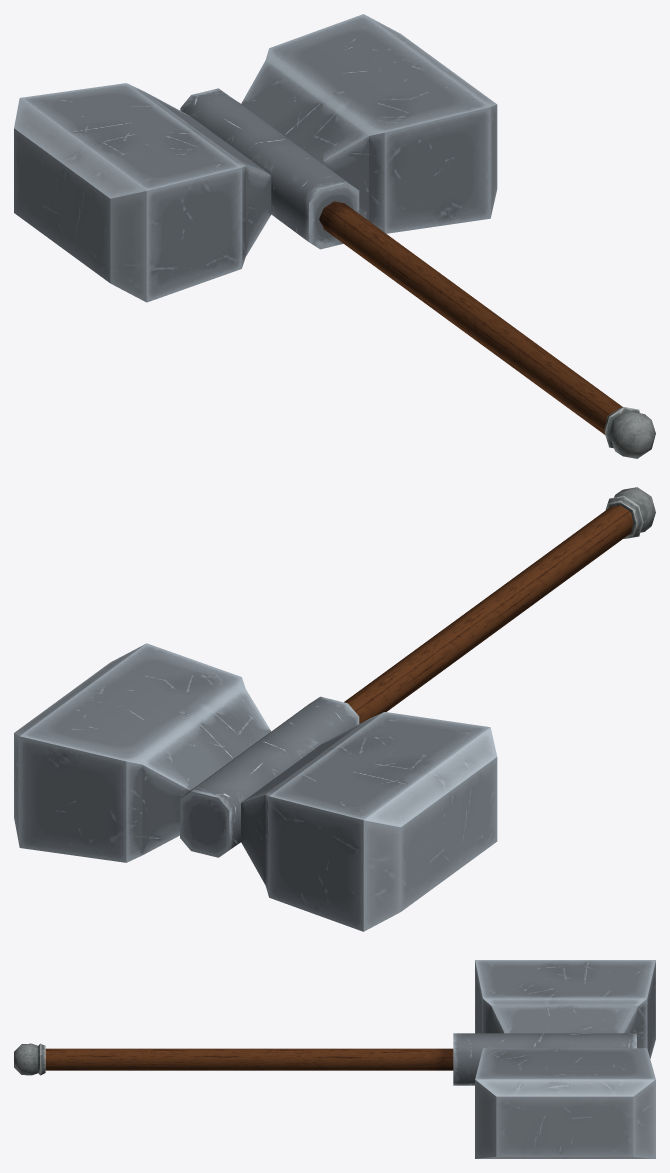
The model's file is hammer_two_handed.glb.
The picture shows the model from 3 angles, top to bottom: view 1: azimuth 30°, elevation 25°; view 2: azimuth 150°, elevation 25°; view 3: azimuth 270°, elevation 25°; orthographic projection. The views are drawn at different scales.
Visible parts, largest first — view 1: hammer_two_handed_Material.002_0; view 2: hammer_two_handed_Material.002_0; view 3: hammer_two_handed_Material.002_0.
Boxes of the visible parts, x1,y1,x2,y2 form: hammer_two_handed_Material.002_0: (14,14,655,458); hammer_two_handed_Material.002_0: (14,487,655,931); hammer_two_handed_Material.002_0: (14,960,655,1158).
Bounding box in the file's own units: 3.37 × 0.9287 × 6.8.
Materials: 1 (1 with a texture image).
